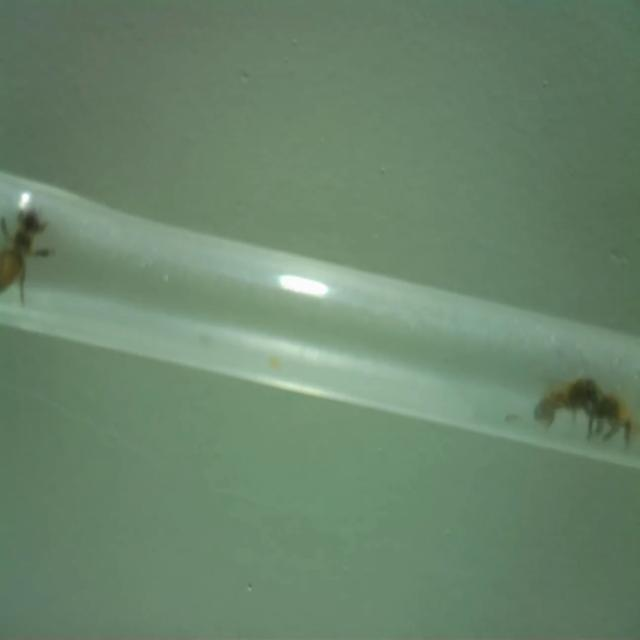Honeybee-Detection: (534, 375, 640, 448), (0, 209, 54, 306)
